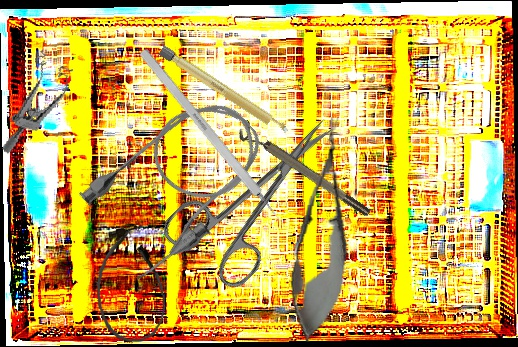Cannula: (69, 78, 287, 290), (91, 223, 169, 346)
Fixation Ring: (235, 119, 373, 225)
Hook Surgical: (137, 47, 291, 232)
Iris Scissors: (156, 90, 367, 301)
Micro Scissor: (282, 114, 363, 346)
Scalpel Handle: (157, 45, 291, 137)
Speculum: (1, 46, 77, 165)
